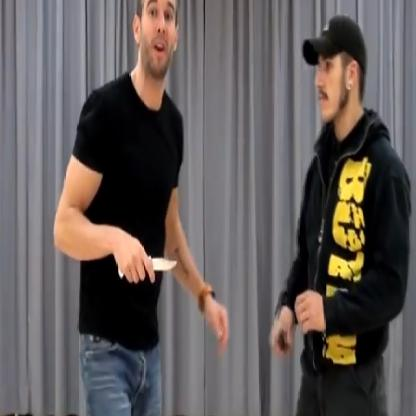knife: (115, 240, 180, 286)
